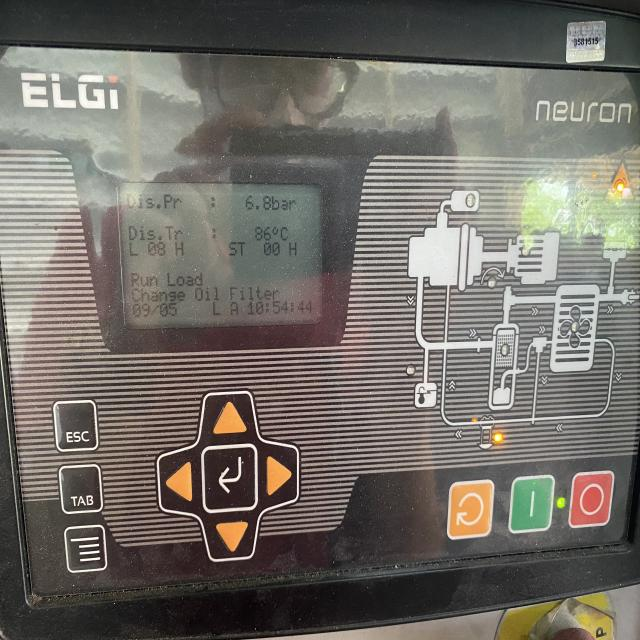display: (119, 180, 329, 331)
frame: (246, 300, 316, 319), (245, 192, 272, 213), (146, 240, 166, 258), (253, 224, 272, 242), (130, 303, 150, 320), (160, 302, 178, 320), (262, 242, 282, 258)
gauge: (0, 0, 640, 640)
